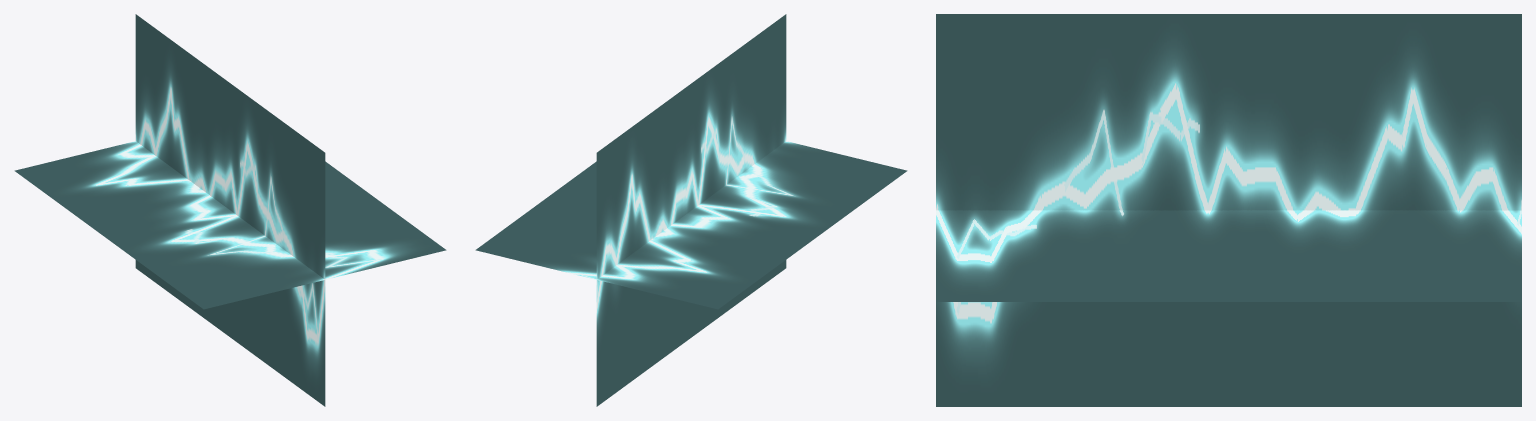
The model's file is fx_arc_t3.glb.
3 views of the same model, side by side, from view 1: azimuth 30°, elevation 25°; view 2: azimuth 150°, elevation 25°; view 3: azimuth 270°, elevation 25° (orthographic). The views are drawn at different scales.
Parts seen in each view (by area): view 1: fx_arc; view 2: fx_arc; view 3: fx_arc.
Part boxes in pixels (x1,y1,x2,y2): fx_arc: (14, 14, 446, 406); fx_arc: (475, 14, 907, 406); fx_arc: (936, 14, 1521, 406).
Size of the model in its own units: 0.74 by 0.74 by 1.
1 material, 1 textured.
